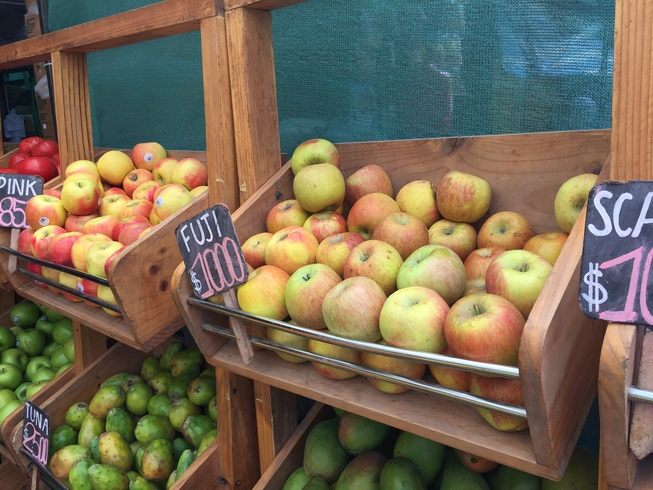precio: (588, 182, 653, 321), (172, 207, 250, 294), (1, 175, 42, 225), (20, 400, 50, 466)
